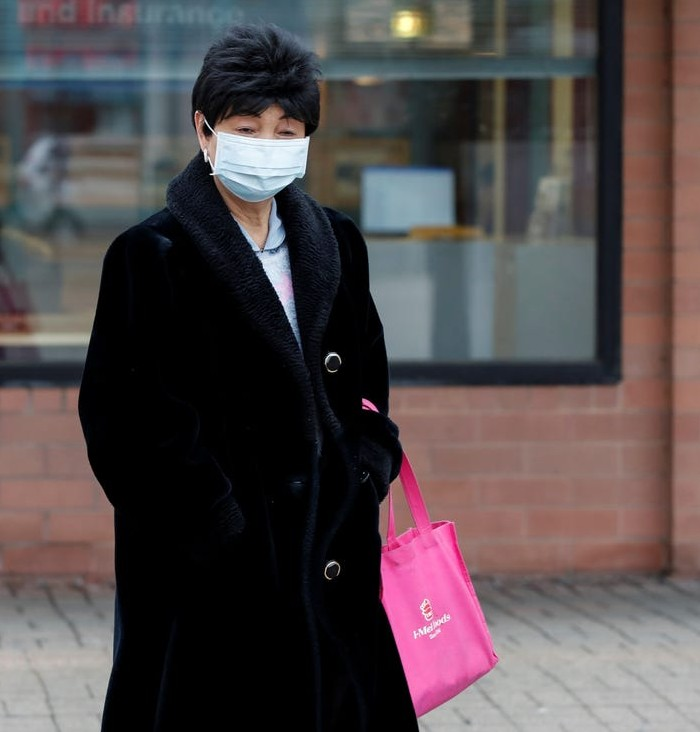with_mask: (200, 59, 323, 203)
